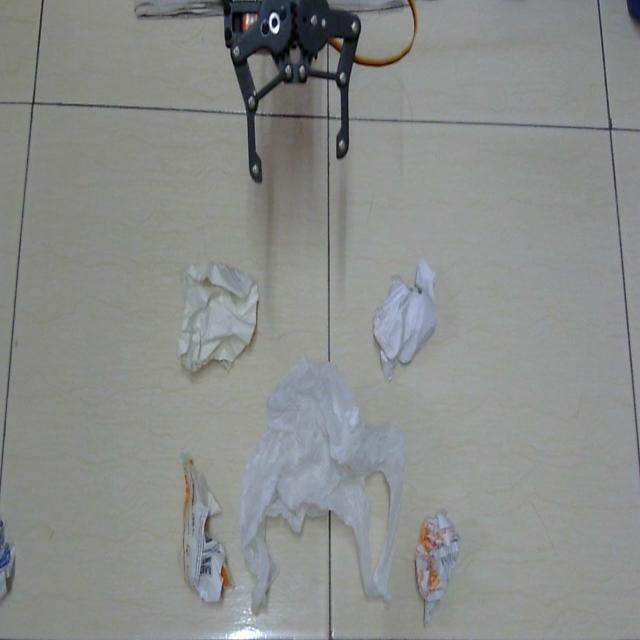Paperrotation: (175, 262, 266, 377), (176, 451, 236, 621), (372, 261, 442, 381), (412, 504, 467, 631)
Plastic-laydown_0-rotation: (238, 354, 408, 614)
